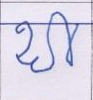i_matra: (52, 11, 79, 66)
